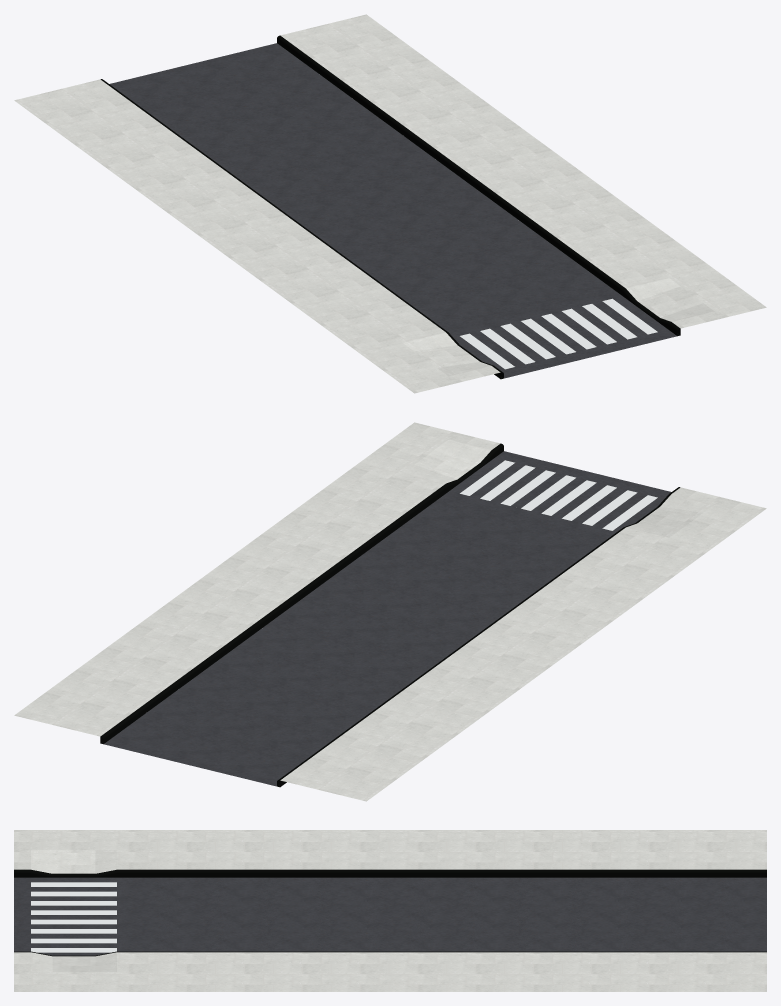
The model's file is esquina 1 carril 1 estacionamiento C.fbx.
3 views of the same model, one above another, from view 1: azimuth 30°, elevation 25°; view 2: azimuth 150°, elevation 25°; view 3: azimuth 270°, elevation 25° (orthographic). The views are drawn at different scales.
Parts seen in each view (by area): view 1: Plane.005; view 2: Plane.005; view 3: Plane.005.
Part boxes in pixels (<box>): Plane.005: <box>14,14,766,393</box>; Plane.005: <box>14,422,766,801</box>; Plane.005: <box>14,830,766,991</box>.
Size of the model in its own units: 1016 by 30.85 by 2000.
Materials: 4 (4 with a texture image).
